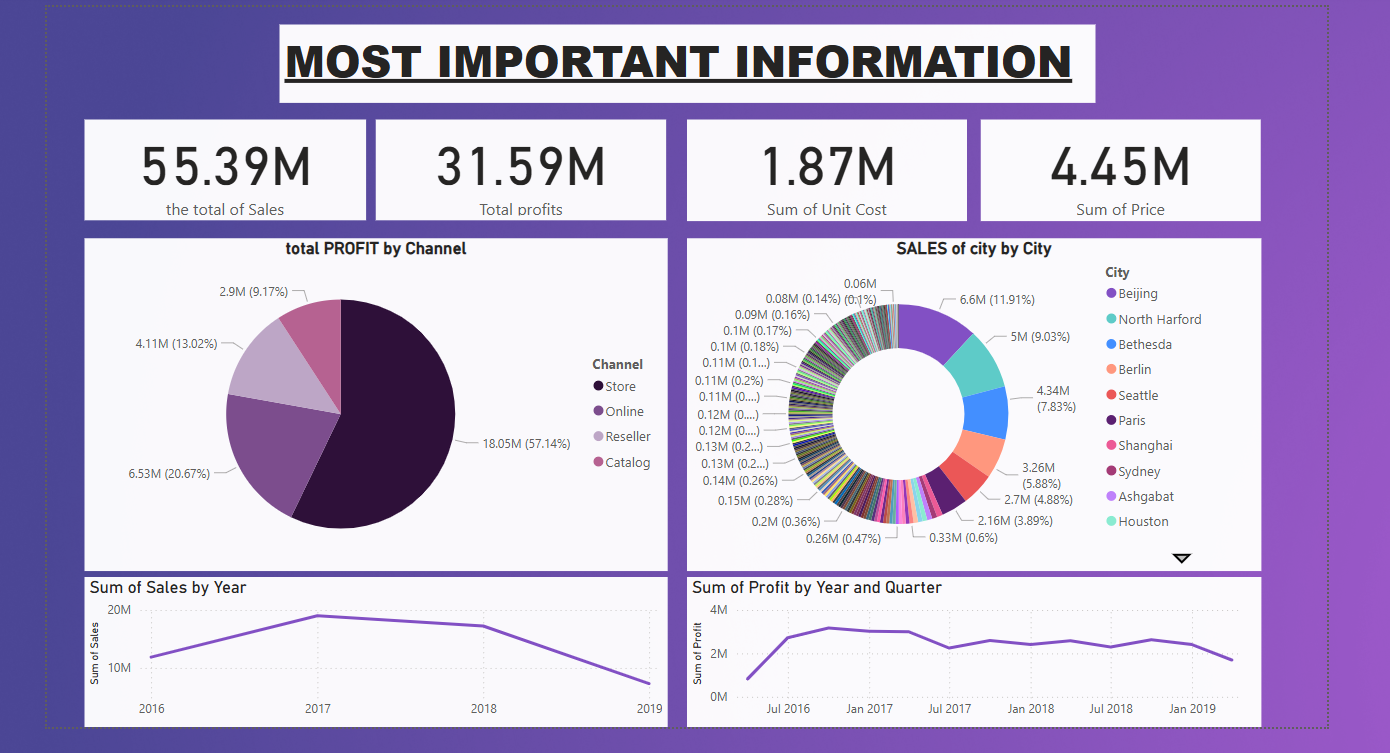

The dashboard page shown, as its layout file describes it:
{"tool":"powerbi","page":{"name":"Page 1","canvas":[1280,720],"ordinal":0},"visuals":[{"type":"card","fields":{"Values":["Sum(Data.Sales)"]},"box":[37.2,112.8,281.4,101.2],"z":0},{"type":"card","fields":{"Values":["Sum(Data.Profit)"]},"box":[329.1,112.8,290.7,101.2],"z":1000},{"type":"card","fields":{"Values":["Sum(Data.Unit Cost)"]},"box":[640,112.9,280,101.4],"z":2000},{"type":"card","fields":{"Values":["Sum(Data.Price)"]},"box":[934.3,112.9,280,101.4],"z":3000},{"type":"textbox","box":[232.9,17.1,815.7,78.6],"z":4000},{"type":"donutChart","title":"total PROFIT by Channel","fields":{"Category":["Data.Channel"],"Y":["Sum(Data.Profit)"]},"box":[37.1,231.4,582.9,332.9],"z":5000},{"type":"donutChart","fields":{"Y":["Sum(Data.Sales)"],"Category":["Data.City"]},"box":[640,231.4,574.3,332.9],"z":6000},{"type":"lineChart","fields":{"Y":["Sum(Data.Sales)"],"Category":["Data.Order Date.Variation.Date Hierarchy.Year"]},"box":[37.1,570,582.9,150],"z":7000},{"type":"lineChart","fields":{"Y":["Sum(Data.Profit)"],"Category":["Data.Order Date.Variation.Date Hierarchy.Year","Data.Order Date.Variation.Date Hierarchy.Quarter"]},"box":[640,570,574,150],"z":8000}]}

Visuals, with their boxes in screenshot pixels (x1, y1, x2, y2):
card - Sum(Data.Sales): x1=84 y1=116 x2=364 y2=216
card - Sum(Data.Profit): x1=374 y1=116 x2=664 y2=216
card - Sum(Data.Unit Cost): x1=684 y1=116 x2=962 y2=217
card - Sum(Data.Price): x1=976 y1=116 x2=1255 y2=217
textbox: x1=279 y1=21 x2=1090 y2=99
"total PROFIT by Channel" donutChart: x1=84 y1=234 x2=664 y2=565
donutChart - Sum(Data.Sales) x Data.City: x1=684 y1=234 x2=1255 y2=565
lineChart - Sum(Data.Sales) x Data.Order Date.Variation.Date Hierarchy.Year: x1=84 y1=571 x2=664 y2=720
lineChart - Sum(Data.Profit) x Data.Order Date.Variation.Date Hierarchy.Year: x1=684 y1=571 x2=1255 y2=720
